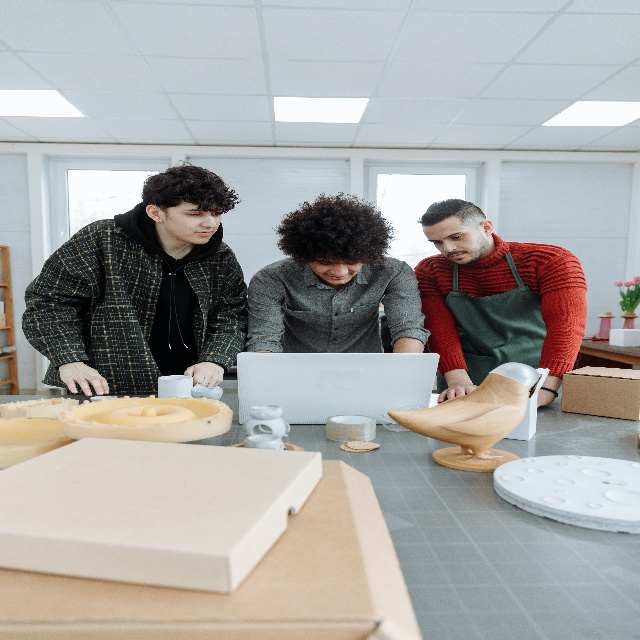Sin_guantes: (59, 361, 110, 397), (184, 361, 224, 388), (437, 383, 478, 403), (536, 388, 556, 408)
